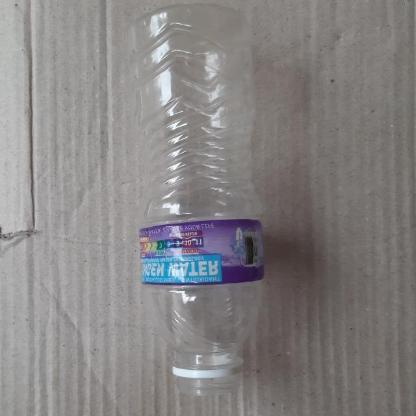Plastic Bottle: (130, 0, 264, 398)
